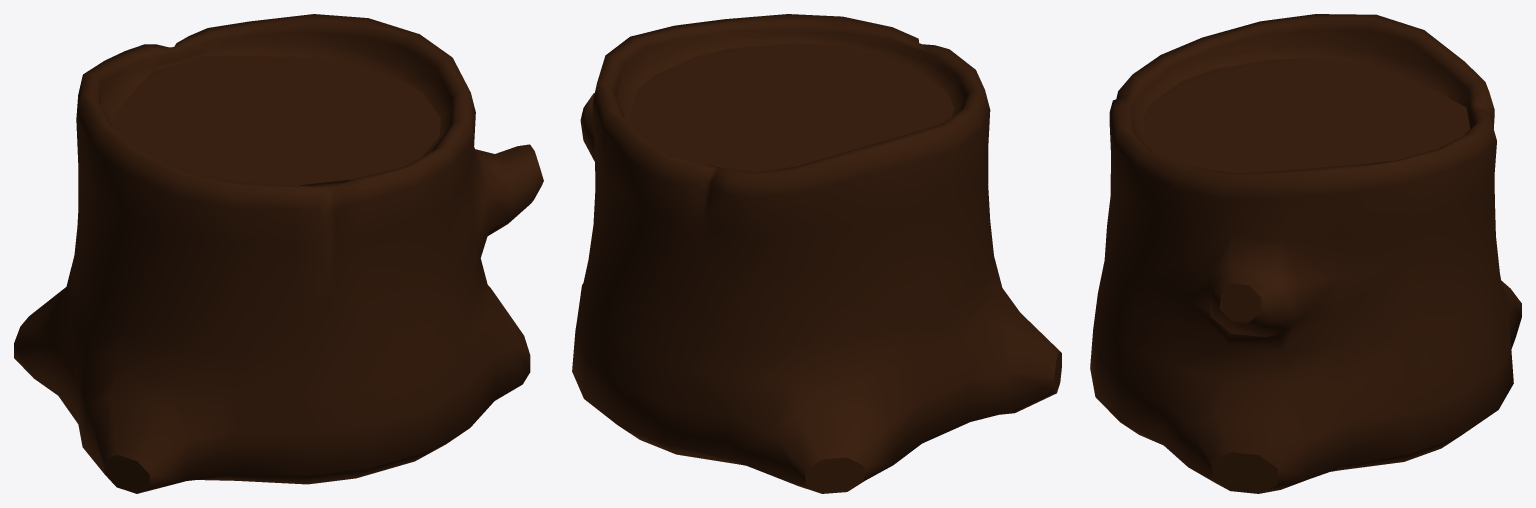
File: Fantasy_Stump_Large.fbx
The picture shows the model from 3 angles, left to right: view 1: azimuth 30°, elevation 25°; view 2: azimuth 150°, elevation 25°; view 3: azimuth 270°, elevation 25°; orthographic projection. The views are drawn at different scales.
Parts seen in each view (by area): view 1: Trunk; view 2: Trunk; view 3: Trunk.
Part boxes in pixels (x1,y1,x2,y2): Trunk: (14,14,543,493); Trunk: (572,14,1061,493); Trunk: (1090,14,1521,493).
Bounding box in the file's own units: 23.2 × 15.67 × 19.84.
